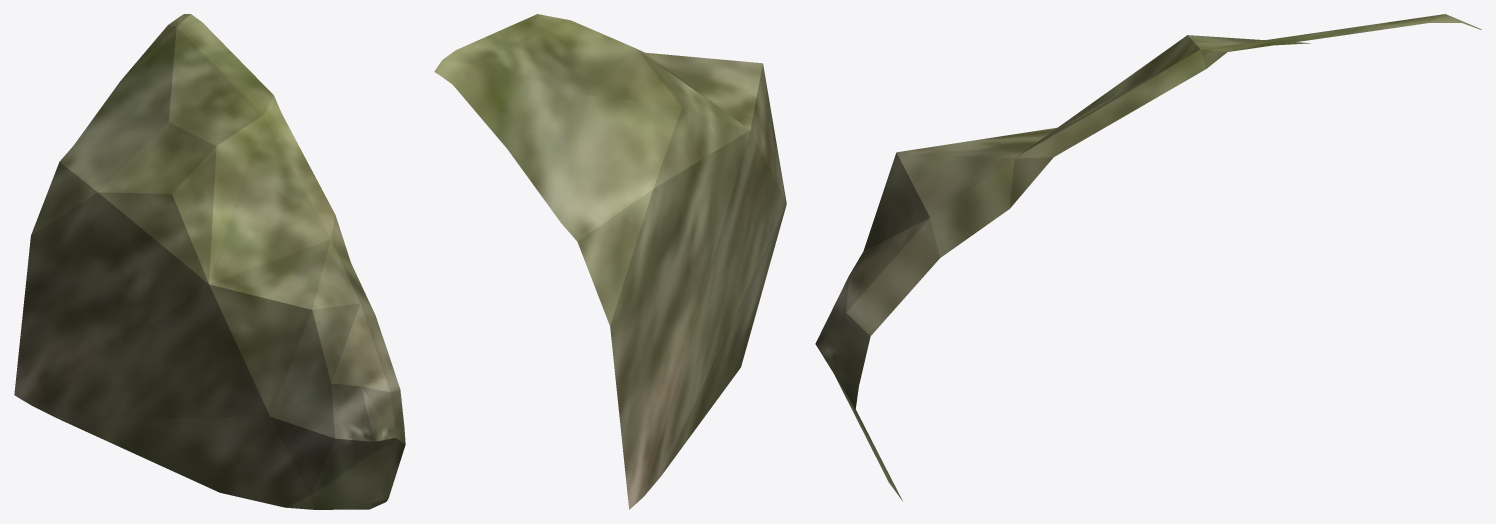
3 renders of one model, left to right at view 1: azimuth 30°, elevation 25°; view 2: azimuth 150°, elevation 25°; view 3: azimuth 270°, elevation 25°, orthographic. The views are drawn at different scales.
Size of the model in its own units: 0.4954 by 0.9622 by 1.19.
Materials: 1 (1 with a texture image).
